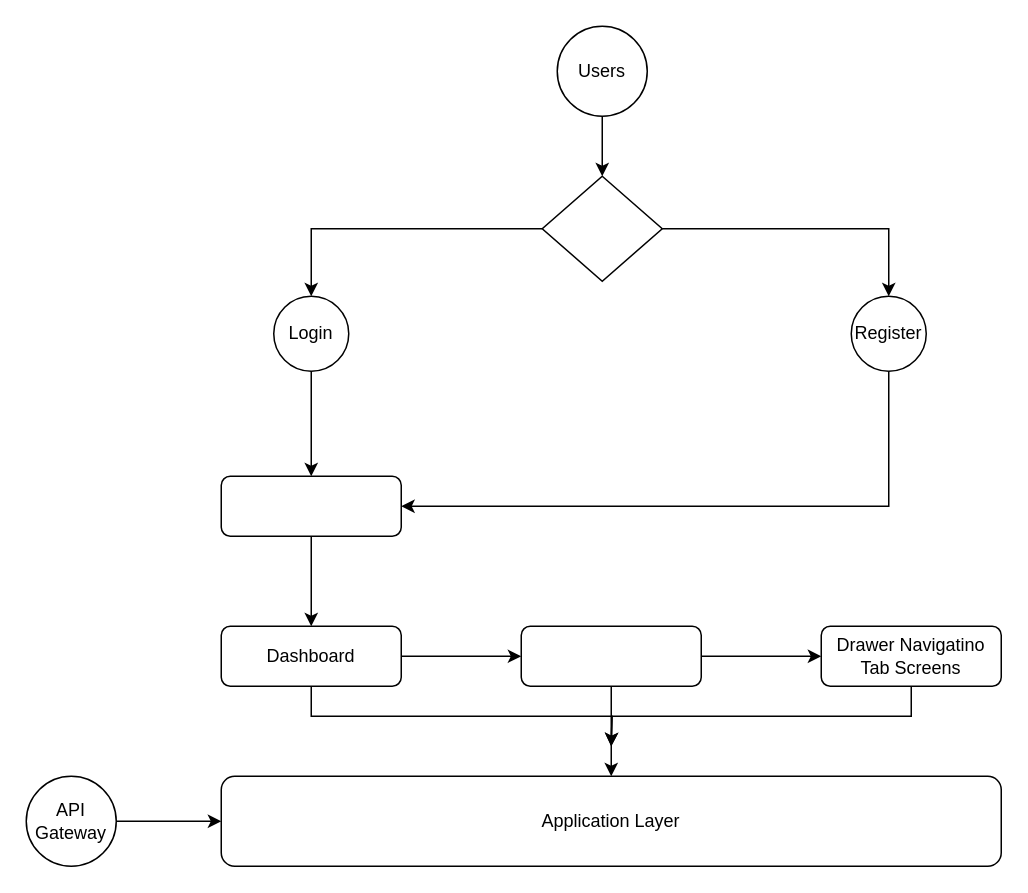
Some shapes in this 1028 by 893 pixel diagram are drawn without their labels. The shapes that lost their labels are listed below. From the top down, each one's centre as x and y in pixels, then its label:
At point 601,228: "New user".
At point 310,505: "App Navigation".
At point 610,655: "Bottom Navigation to Tab Screens".
